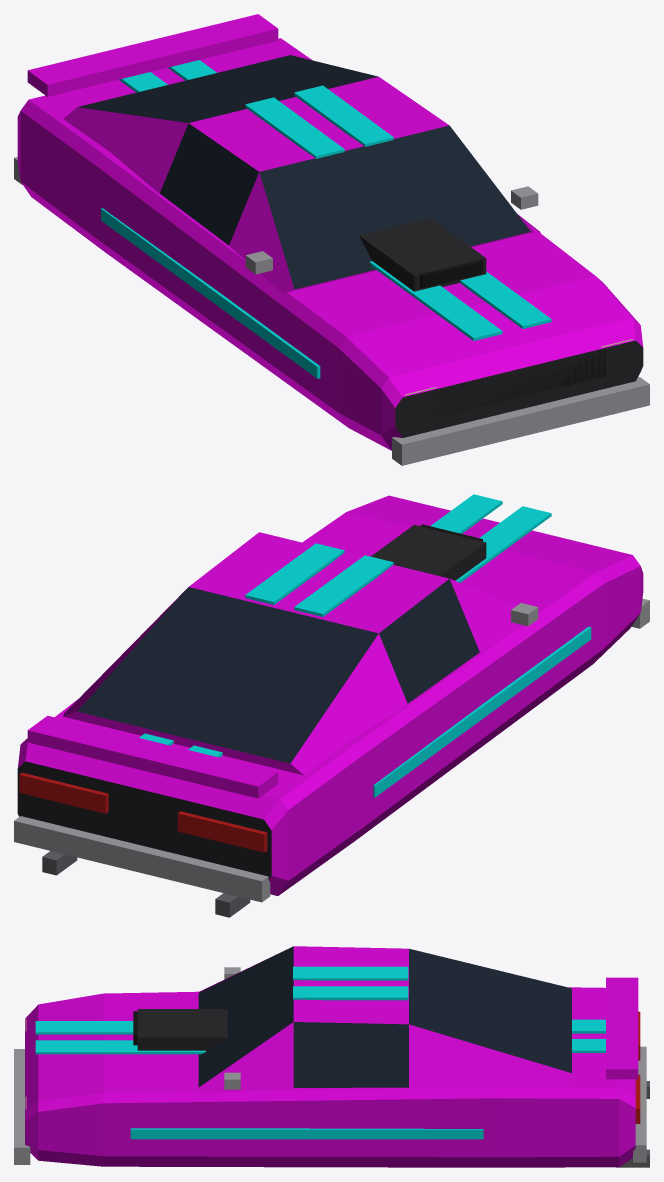
File: car_muscle.glb
3 views of the same model, one above another, from view 1: azimuth 30°, elevation 25°; view 2: azimuth 150°, elevation 25°; view 3: azimuth 270°, elevation 25° (orthographic). The views are drawn at different scales.
Visible parts, largest first — view 1: car_muscle_body; view 2: car_muscle_body; view 3: car_muscle_body.
Boxes of the visible parts, <box> form: car_muscle_body: <box>14,14,649,465</box>; car_muscle_body: <box>14,494,649,917</box>; car_muscle_body: <box>14,946,649,1167</box>.
Size of the model in its own units: 1.96 by 1.21 by 4.68.
